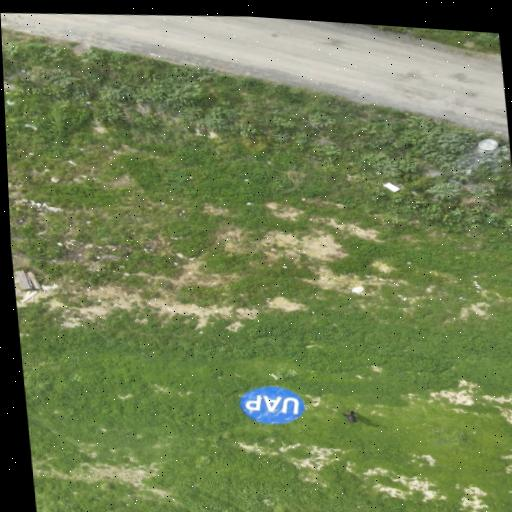person: (343, 411, 357, 422)
uap: (239, 386, 303, 424)
